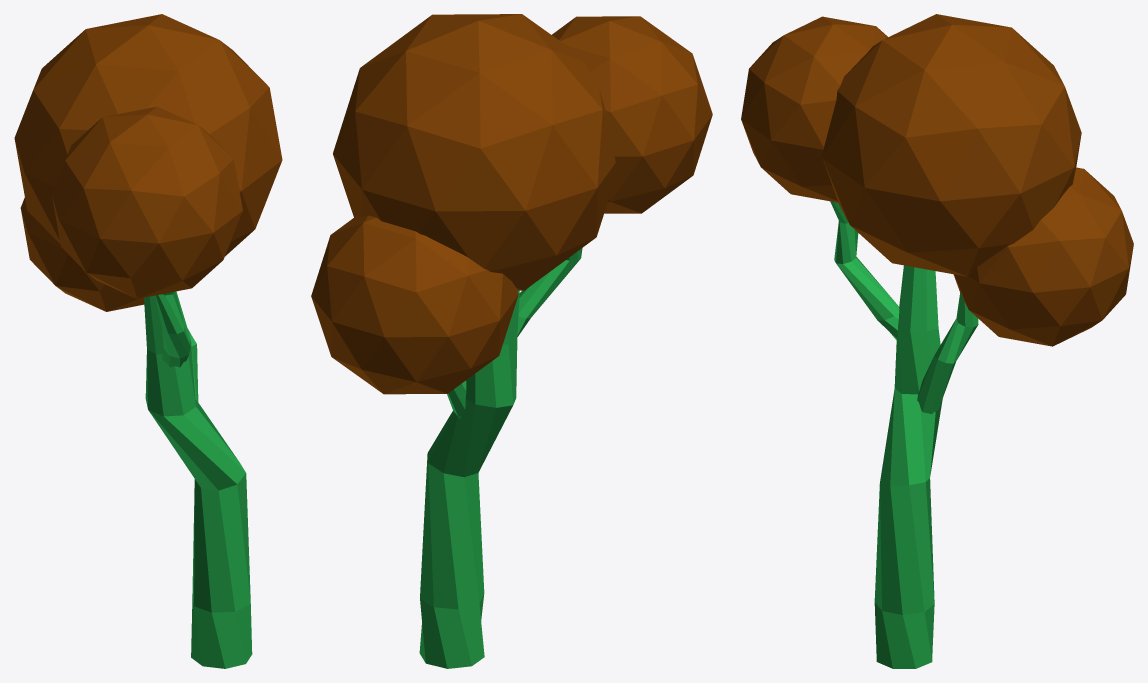
File: Tree4 (1).fbx
3 renders of one model, left to right at view 1: azimuth 30°, elevation 25°; view 2: azimuth 150°, elevation 25°; view 3: azimuth 270°, elevation 25°, orthographic. The views are drawn at different scales.
Parts seen in each view (by area): view 1: Tree4__1_; view 2: Tree4__1_; view 3: Tree4__1_.
Part boxes in pixels (bbox=[...]): Tree4__1_: bbox=[14, 14, 282, 668]; Tree4__1_: bbox=[311, 14, 712, 668]; Tree4__1_: bbox=[741, 14, 1133, 668].
Size of the model in its own units: 313 by 708 by 414.
